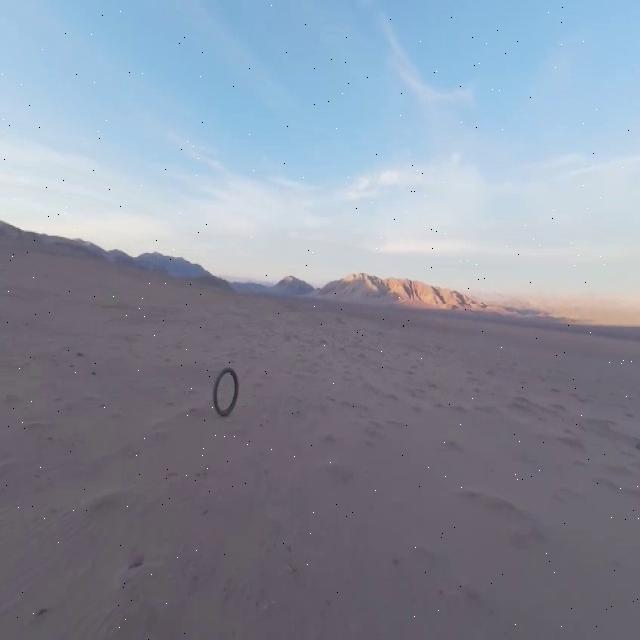Tire: (213, 367, 238, 416)
